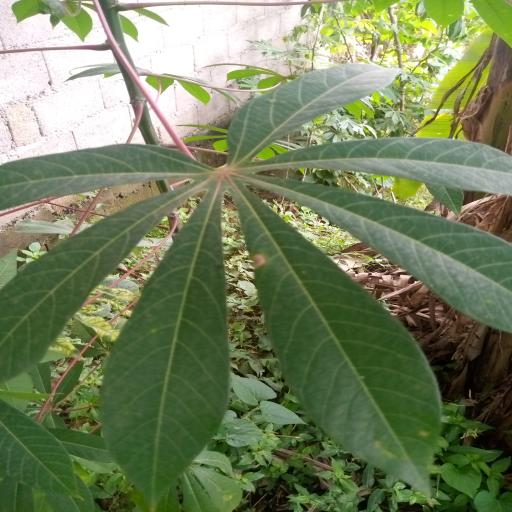Cassava_Brown_Leaf_Spot: (0, 54, 512, 508)
